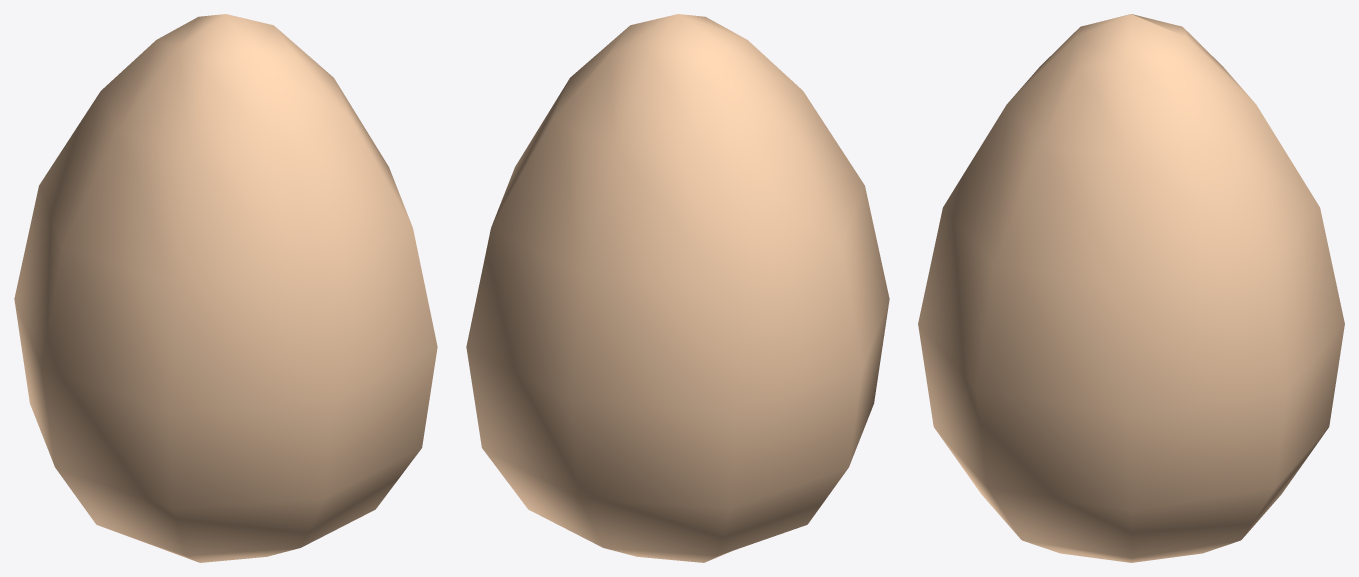
File: TL_Egg.fbx
3 renders of one model, left to right at view 1: azimuth 30°, elevation 25°; view 2: azimuth 150°, elevation 25°; view 3: azimuth 270°, elevation 25°, orthographic.
Visible parts, largest first — view 1: Cube; view 2: Cube; view 3: Cube.
Boxes of the visible parts, x1=… form: Cube: x1=14, y1=14, x2=437, y2=562; Cube: x1=466, y1=14, x2=889, y2=562; Cube: x1=918, y1=14, x2=1344, y2=562.
Bounding box in the file's own units: 6.95 × 9.43 × 6.95.
